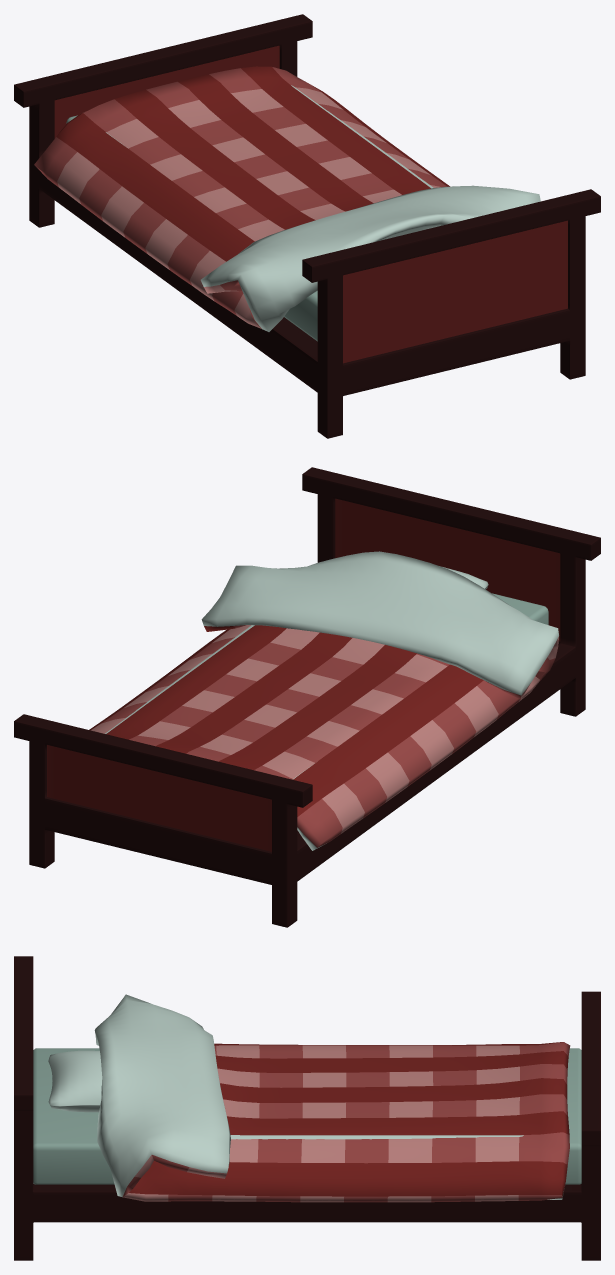
Rendered from Beds.FBX.
3 views of the same model, one above another, from view 1: azimuth 30°, elevation 25°; view 2: azimuth 150°, elevation 25°; view 3: azimuth 270°, elevation 25° (orthographic).
Visible parts, largest first — view 1: BedFrame; view 2: BedFrame; view 3: BedFrame.
Part boxes in pixels (box(x1,y1,x2,y2)): BedFrame: box(14, 14, 600, 438); BedFrame: box(14, 467, 600, 927); BedFrame: box(14, 956, 600, 1260).
Size of the model in its own units: 59.86 by 32.04 by 98.43.
